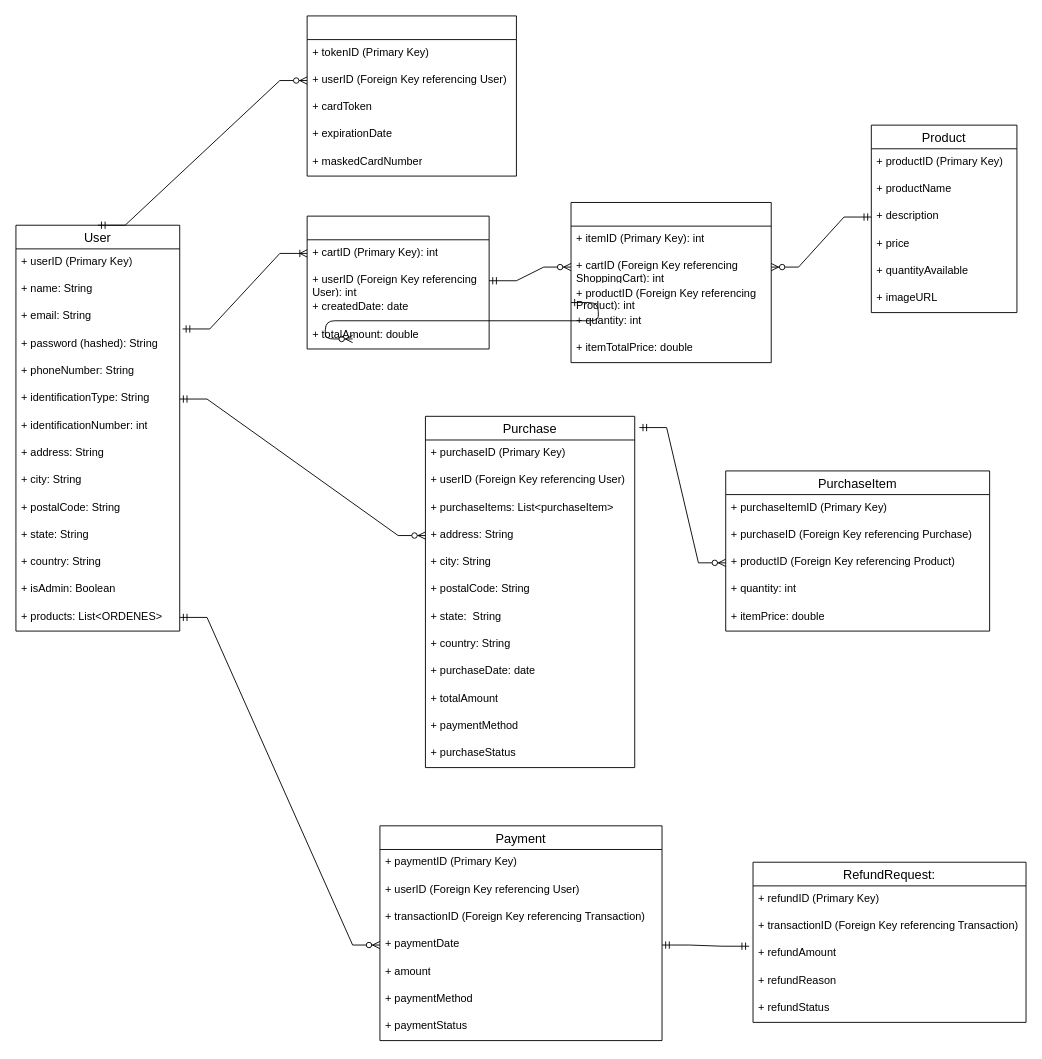
The diagram is 1042 pixels wide and 1059 high, and some of its shapes have lost their labels. The box of each missing label's shape, as (x1, y1, x2, y2) in pixels:
CartItem: (570, 202, 771, 363)
ShoppingCart: (306, 215, 489, 349)
TokenizedCard: (306, 15, 516, 176)
